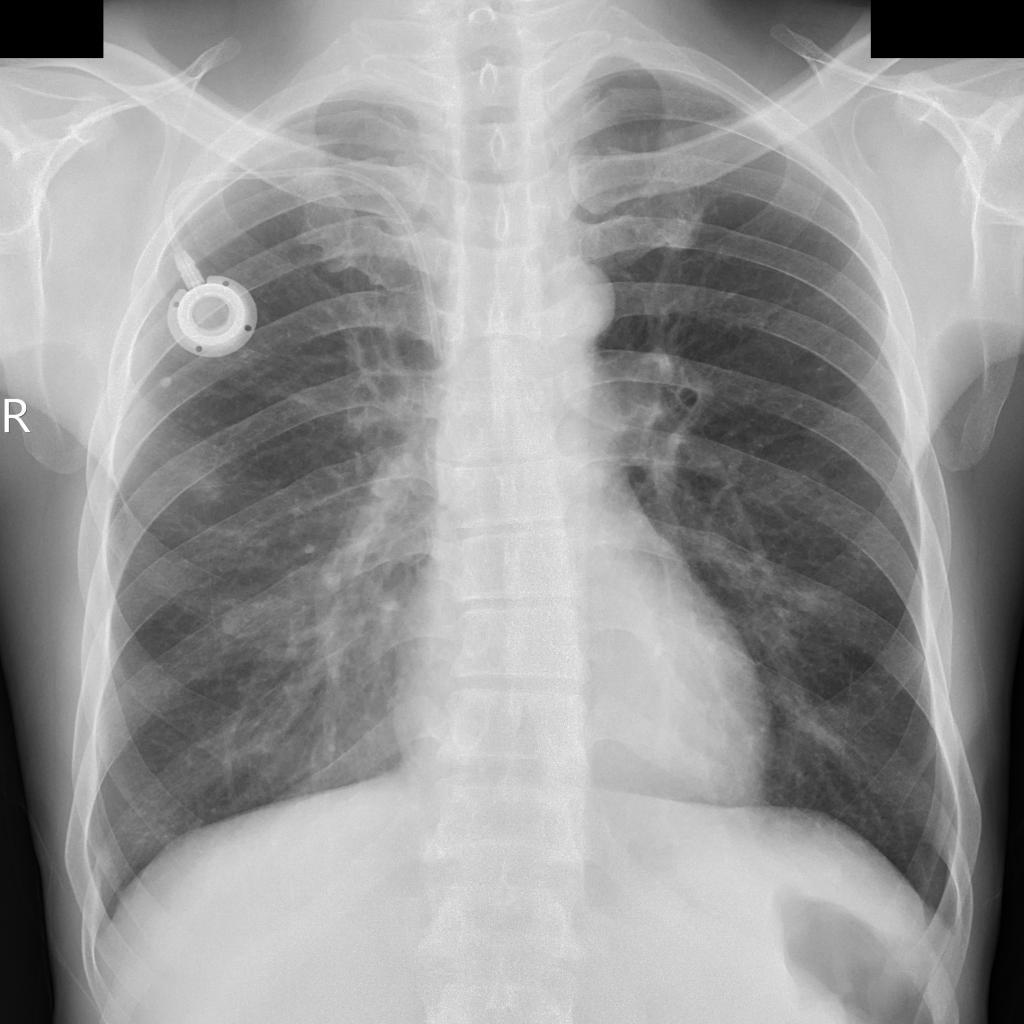Nodule: (188, 465, 227, 505), (160, 377, 174, 390)
